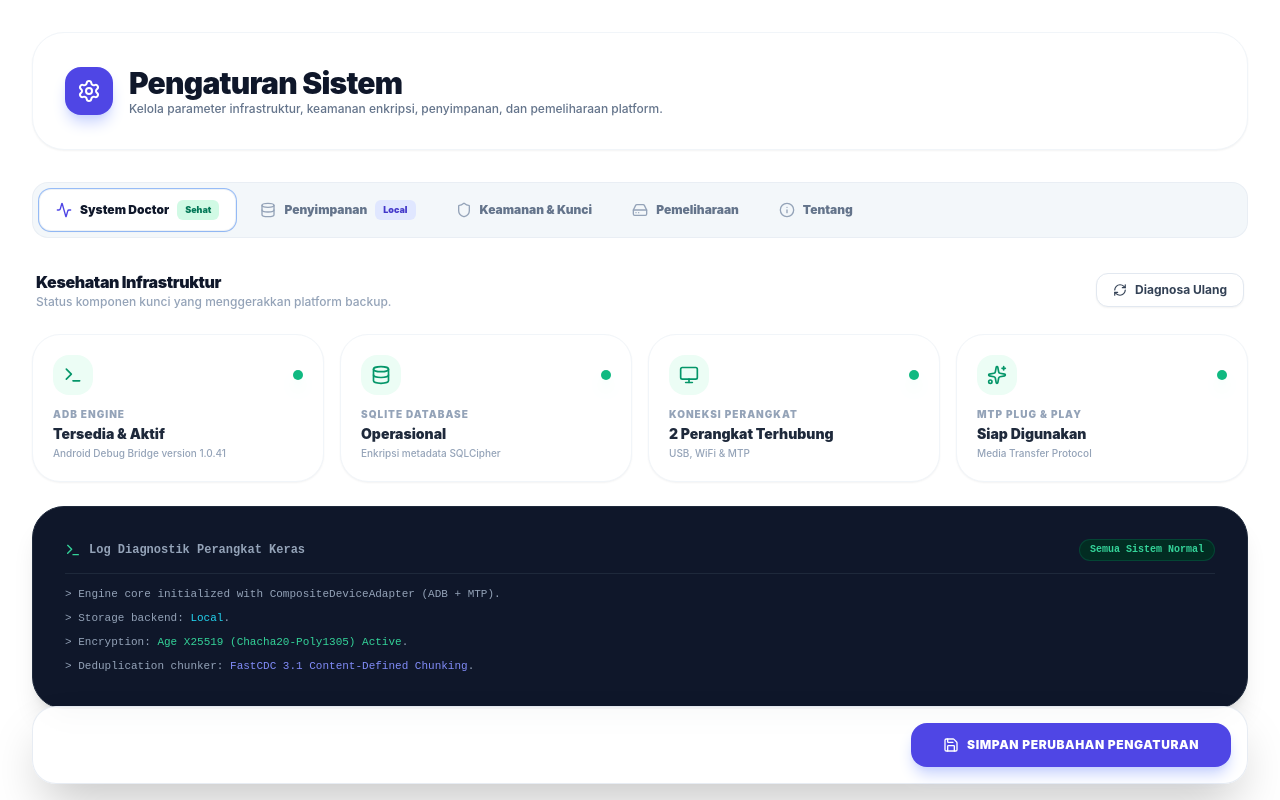
Test case: SettingsPage Component › switches to Security tab and displays Public Key
Expected: the heading "Pengaturan Sistem" is shown, [129,65,402,101]
Click the button "Keamanan & Kunci". click: (524, 210)
box: [440,189,608,231]
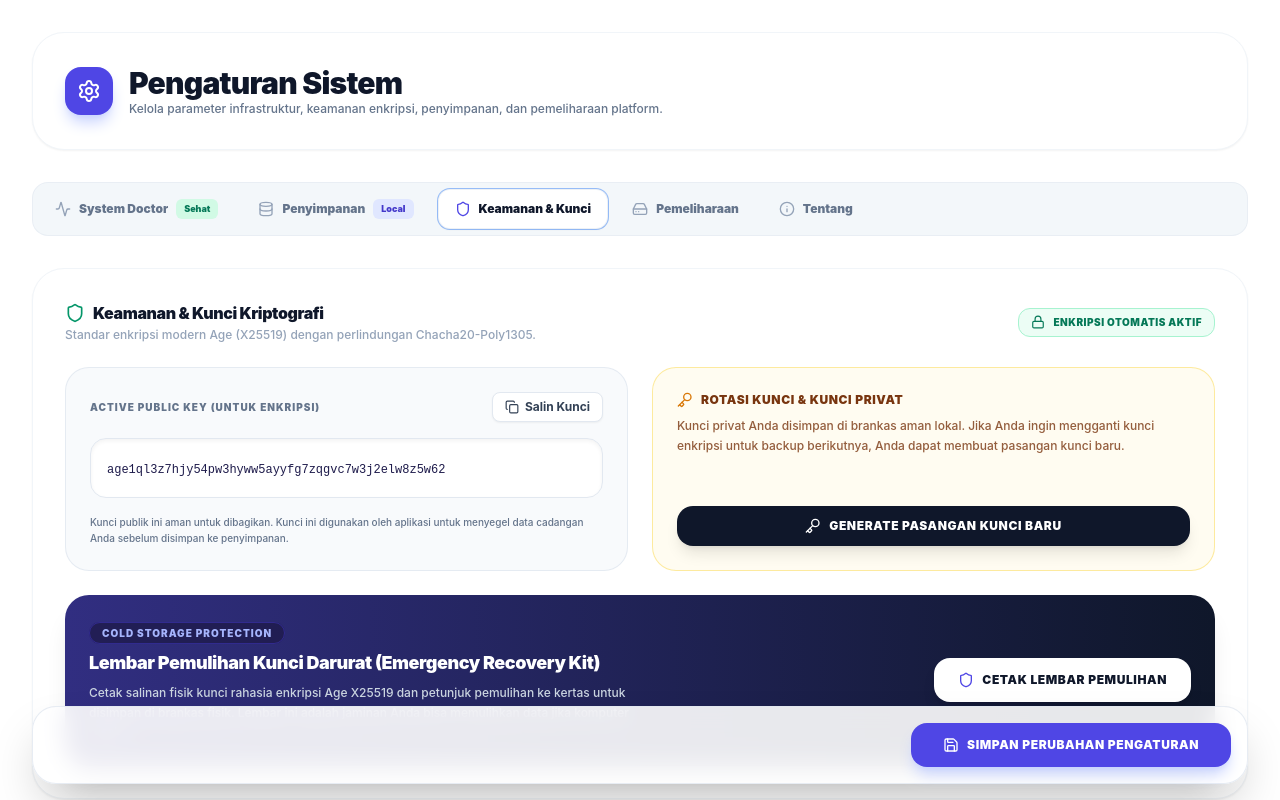
Expected: the text "age1ql3z7hjy54pw3hyww5ayyfg7zqgvc7w3j2elw8z5w62" is shown, [107,463,446,477]
